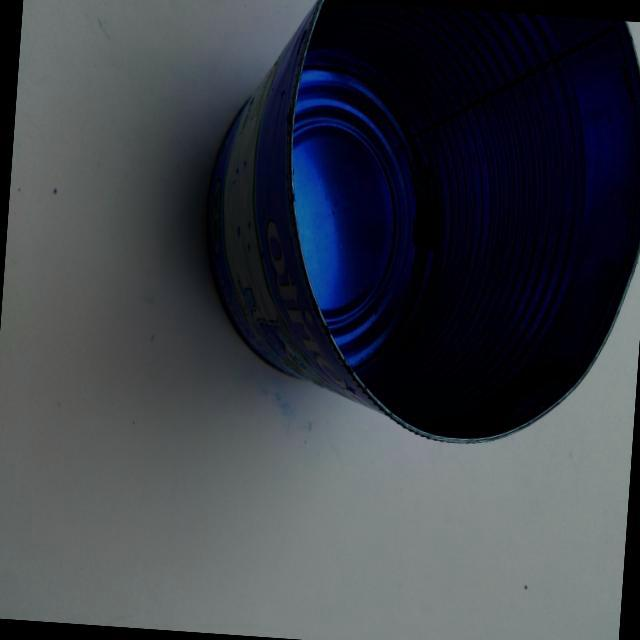metal: (175, 0, 640, 467)
